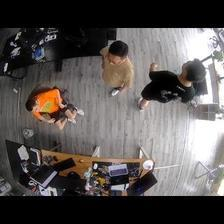normal: (139, 58, 204, 110), (25, 89, 86, 131), (98, 42, 131, 97)
